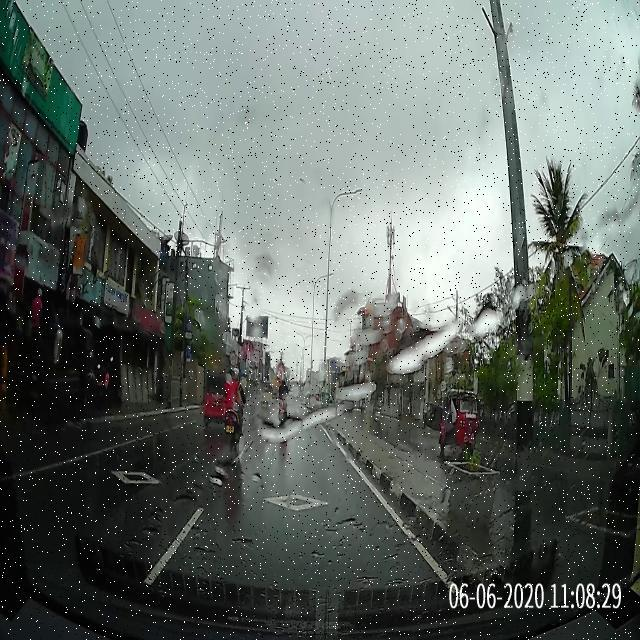diamond: (197, 489, 395, 511)
